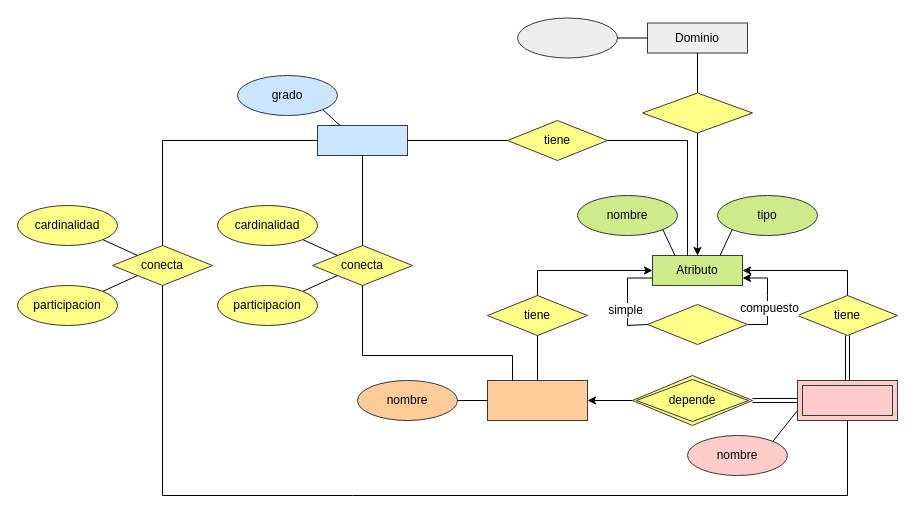
Image size: 915x514. Some labels were removed from this diagram. The centre of each missing label's shape, as x and y in pixels:
"contiene" goes at point (697, 324).
"Entidad Debil" goes at point (847, 400).
"Entidad Fuerte" goes at point (537, 400).
"Relacion" goes at point (362, 140).
"restricciones" goes at point (567, 37).
"restringe" goes at point (697, 112).
